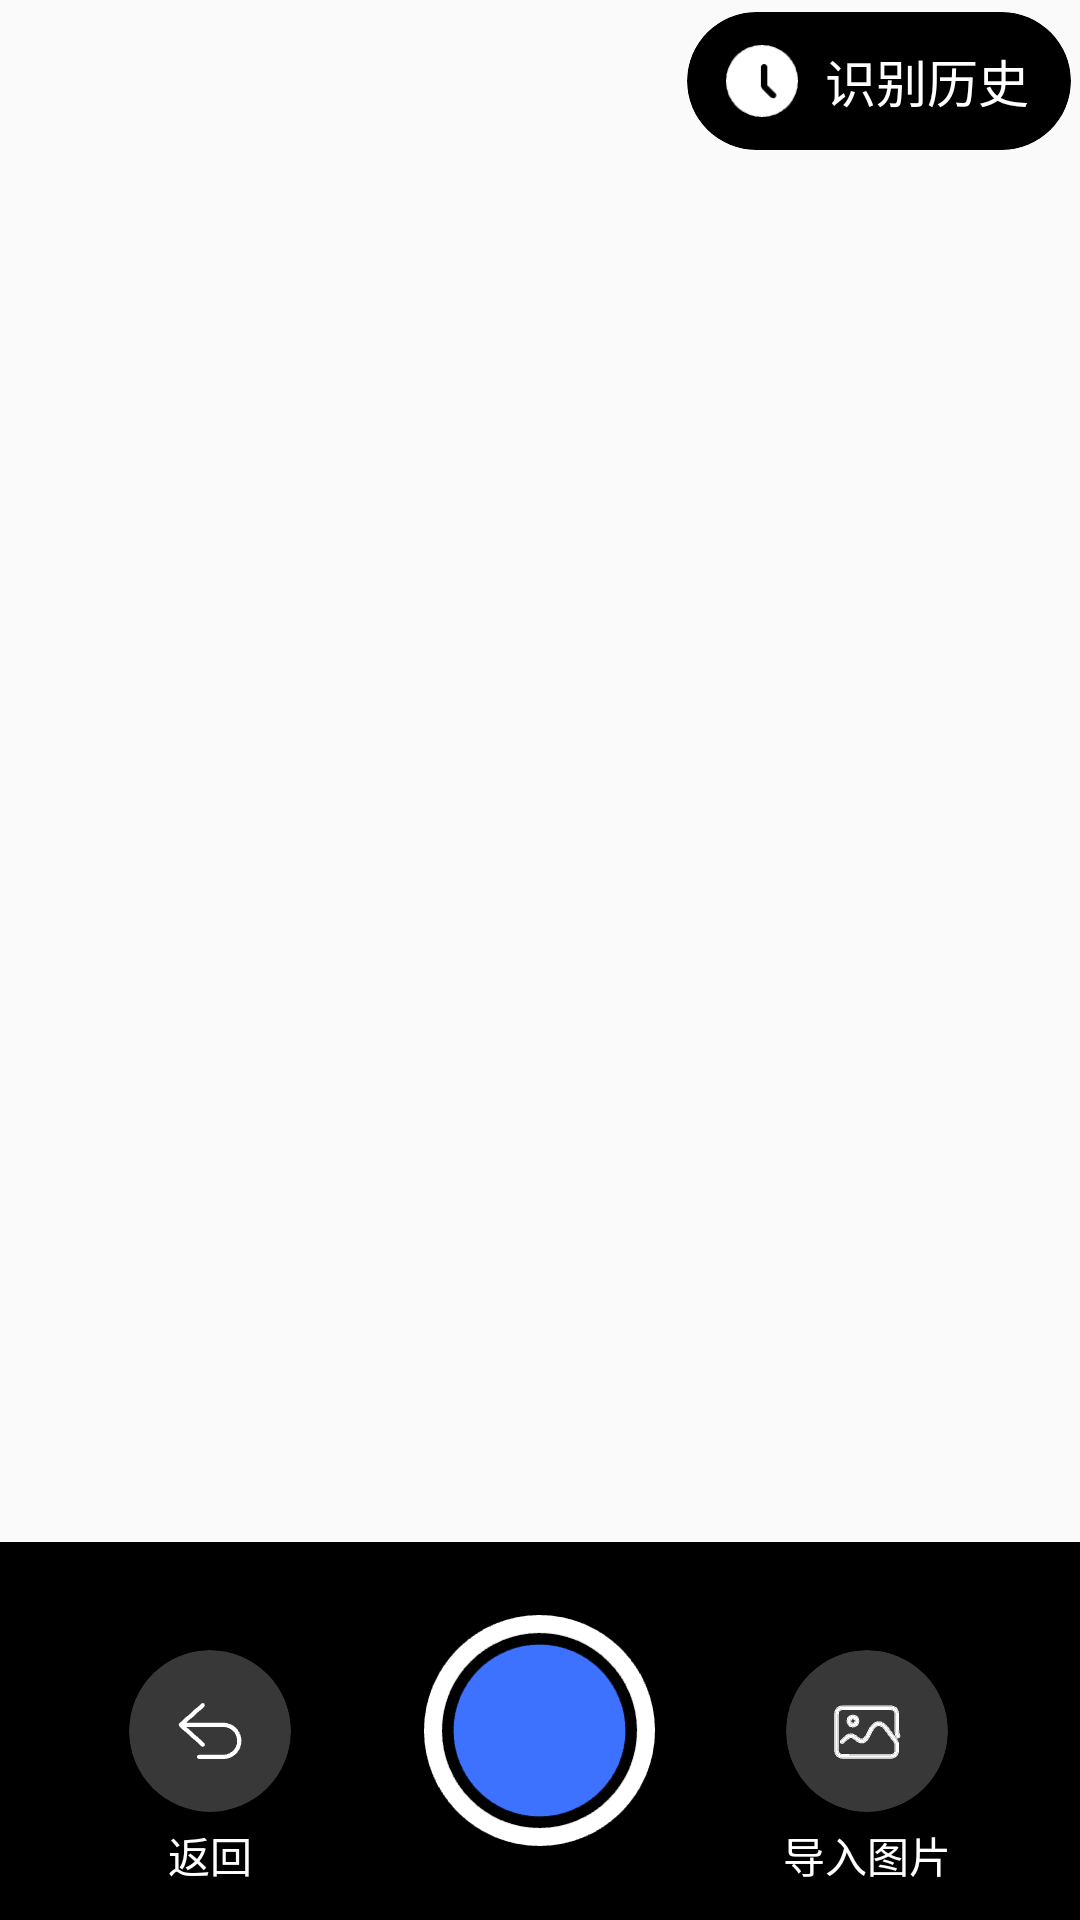

Where icons sit on this 1080px x 1920px app screen, as (x1, y1, x2, y2):
camera page clock: (726, 45, 798, 117)
camera page photo: (834, 1705, 901, 1759)
return arrow: (178, 1703, 242, 1759)
点击拍照按钮: (424, 1615, 655, 1846)
